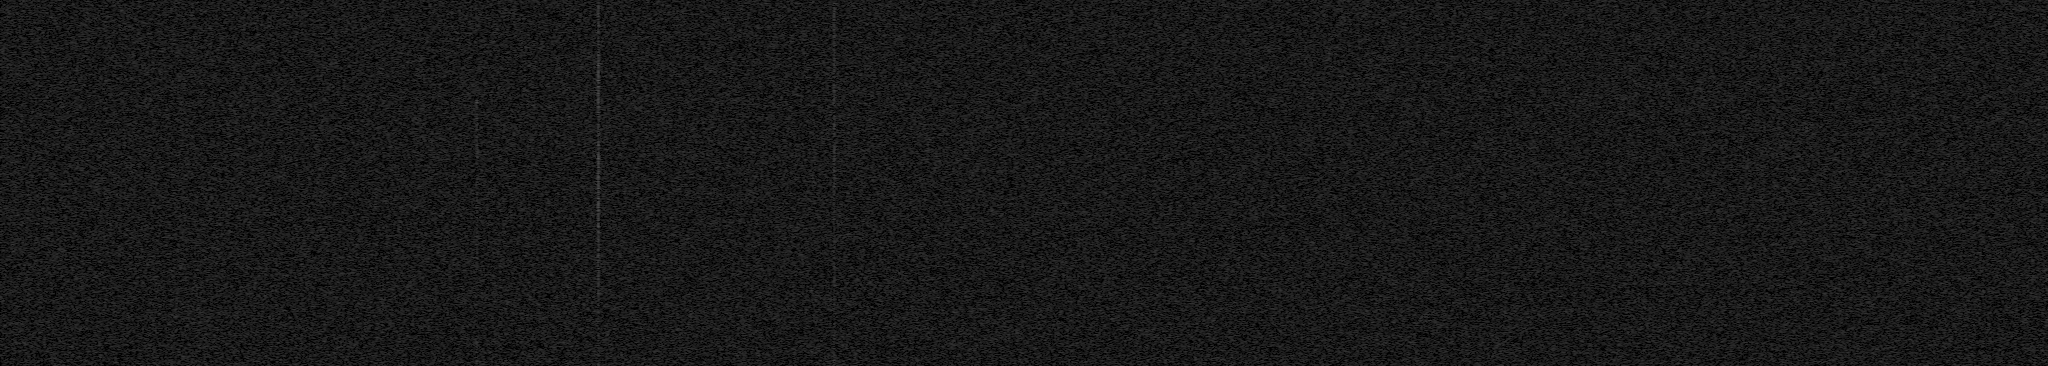wv_lsb: (474, 99, 481, 170), (475, 171, 479, 248), (380, 38, 385, 72), (381, 322, 385, 359), (474, 250, 479, 267), (475, 336, 479, 358), (381, 88, 385, 110), (381, 13, 385, 31), (381, 281, 385, 298), (381, 299, 385, 312), (475, 4, 479, 14), (381, 111, 385, 122), (381, 3, 385, 12), (475, 277, 479, 284), (475, 269, 479, 276), (475, 359, 479, 366), (475, 14, 479, 20), (381, 73, 385, 77), (381, 33, 385, 37), (381, 222, 384, 226), (381, 193, 385, 196), (381, 361, 384, 363), (381, 315, 384, 318), (381, 82, 384, 85)
wv_usb: (596, 3, 601, 227), (832, 82, 837, 213), (596, 229, 601, 325), (832, 3, 837, 82), (832, 289, 837, 366), (832, 216, 837, 273), (596, 332, 601, 366), (832, 274, 837, 288), (596, 327, 601, 331)
